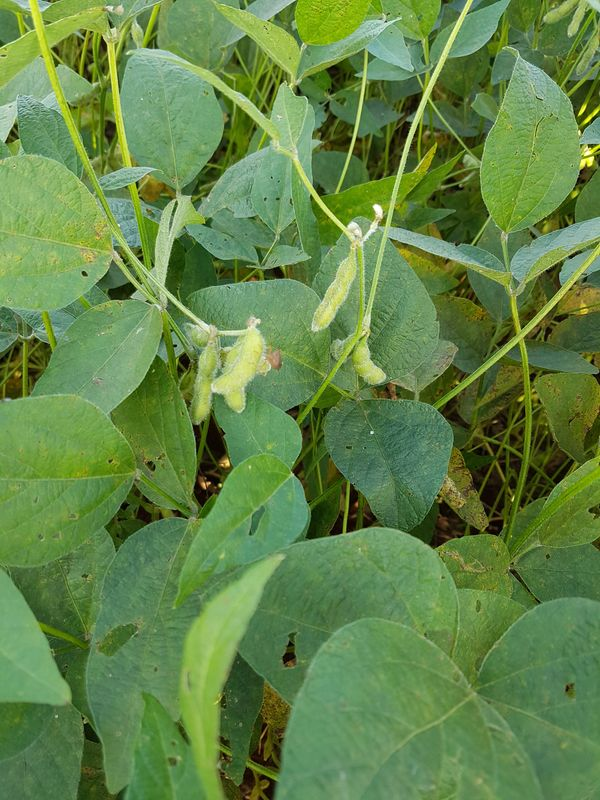Euschistus_heros_adulto: (260, 342, 288, 376)
